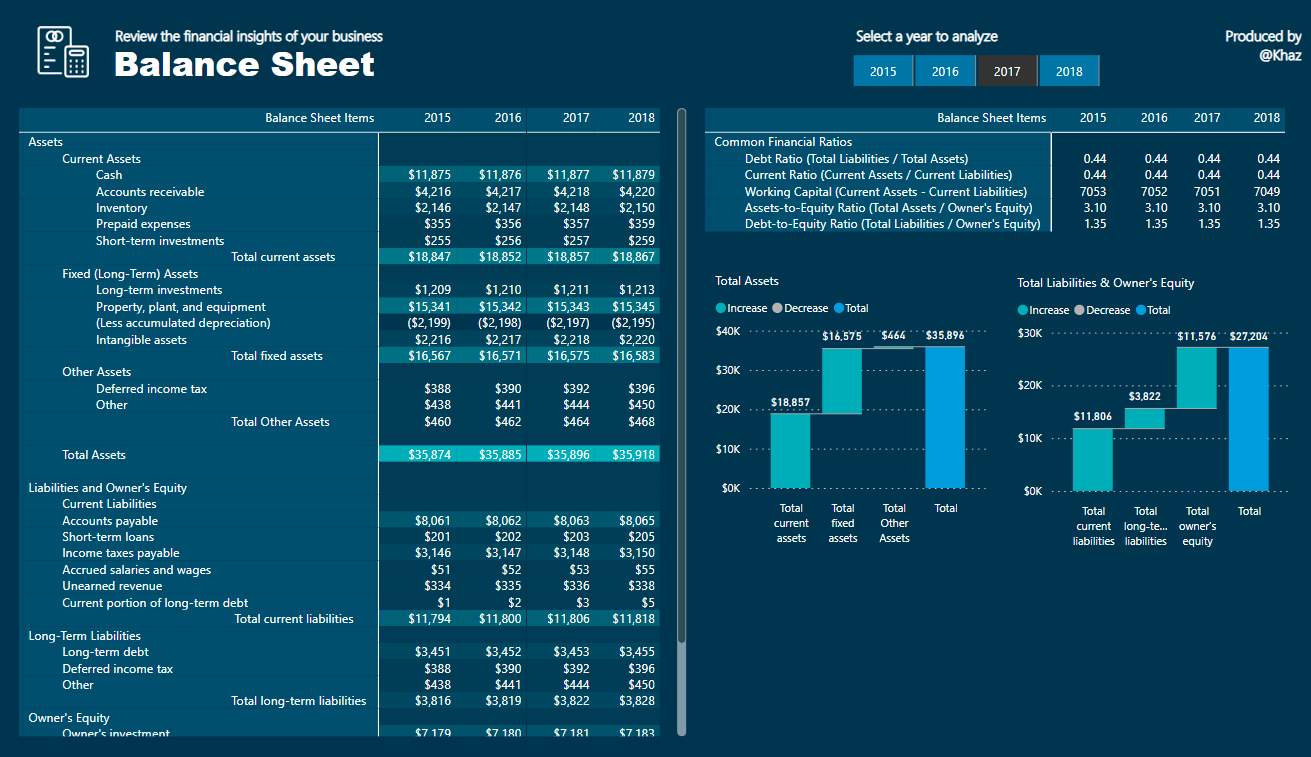

What the dashboard file says about the page in this screenshot:
{"tool":"powerbi","page":{"name":"Balance Sheet","canvas":[1280,720],"ordinal":3},"visuals":[{"type":"textbox","box":[105.5,14.8,360.9,60.1],"z":0},{"type":"textbox","box":[107.6,0,291.5,34.4],"z":1000},{"type":"image","box":[18.3,1.1,88.2,60.2],"z":2000},{"type":"slicer","fields":{"Values":["Dates.Year"]},"box":[805.7,27.2,289.4,44.3],"z":3000},{"type":"textbox","box":[828.8,0,166.6,31],"z":4000},{"type":"textbox","box":[1139.9,0,132.3,49.6],"z":5000},{"type":"pivotTable","fields":{"Rows":["Balance Sheet Template.Row Index","Balance Sheet Template.Balance Sheet Items"],"Values":["Balance Sheet Analysis.B/S Values"],"Columns":["Dates.Year"]},"box":[14.8,80.6,659.3,620.7],"z":7000},{"type":"pivotTable","fields":{"Rows":["Balance Sheet Template.Row Index","Balance Sheet Template.Balance Sheet Items"],"Values":["Balance Sheet Analysis.B/S Values"],"Columns":["Dates.Year"]},"box":[682,80.6,591.2,149.8],"z":8000},{"type":"waterfallChart","title":"Total Assets","fields":{"Category":["Balance Sheet Template.Summary Items"],"Y":["Balance Sheet Analysis.B/S Values"]},"box":[691.4,244.8,274.7,273.8],"z":9000},{"type":"waterfallChart","title":"Total Liabilities & Owner''s Equity","fields":{"Category":["Balance Sheet Template.Summary Items"],"Y":["Balance Sheet Analysis.B/S Values"]},"box":[985.7,246.7,276.6,274.7],"z":10000}]}

Visuals, with their boxes in screenshot pixels (x1, y1, x2, y2), scaled from the page's 1280x720 canvas onto the 1311x757 screenshot:
textbox: 108,16,478,79
textbox: 110,0,409,36
image: 19,1,109,64
slicer - Dates.Year: 825,29,1122,75
textbox: 849,0,1020,33
textbox: 1168,0,1303,52
pivotTable - Balance Sheet Template.Row Index x Balance Sheet Template.Balance Sheet Items: 15,85,690,737
pivotTable - Balance Sheet Template.Row Index x Balance Sheet Template.Balance Sheet Items: 699,85,1304,242
"Total Assets" waterfallChart: 708,257,989,545
"Total Liabilities & Owner''s Equity" waterfallChart: 1010,259,1293,548
